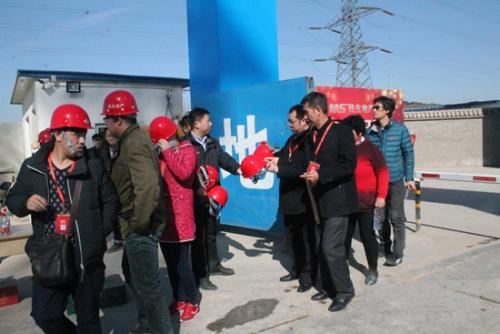boots: (328, 294, 353, 312), (180, 303, 200, 321), (210, 263, 234, 274), (198, 277, 217, 289), (385, 254, 403, 265), (365, 269, 378, 284), (297, 278, 312, 291), (311, 291, 328, 301), (279, 272, 299, 280)
hard-hat: (49, 103, 94, 129), (99, 89, 138, 115), (148, 116, 178, 143), (196, 164, 219, 190), (241, 154, 265, 177), (207, 184, 228, 207), (254, 142, 273, 162)
person: (4, 104, 122, 334), (100, 90, 178, 334), (300, 91, 360, 311), (183, 106, 243, 289), (148, 116, 201, 323), (263, 103, 319, 292), (365, 95, 417, 265), (339, 113, 390, 285)
